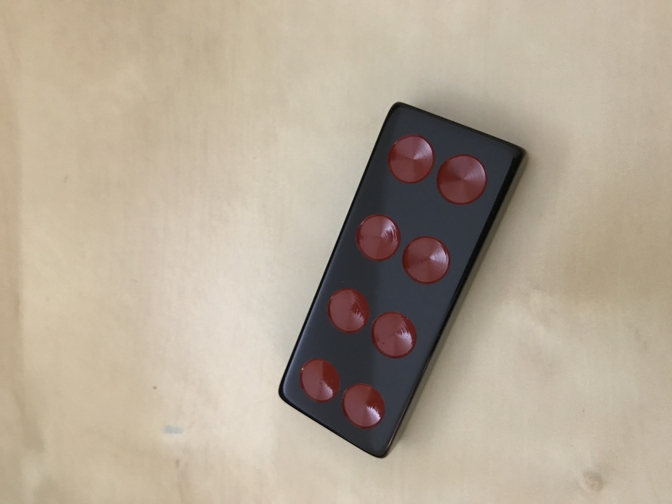man: (278, 100, 527, 462)
